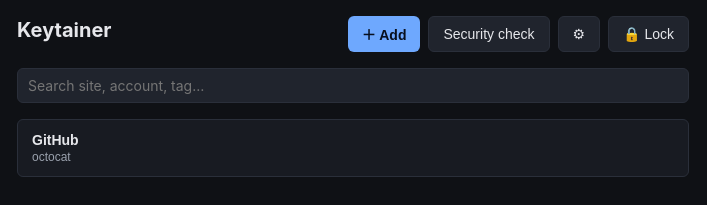
it: List › shows the no-match message when a search returns nothing
Check: the text "GitHub" is shown, box [32,132,79,148]
Type "zz" into the field with placeholder "Search site, account, tag…" at (353, 86), box [17,68,689,103]
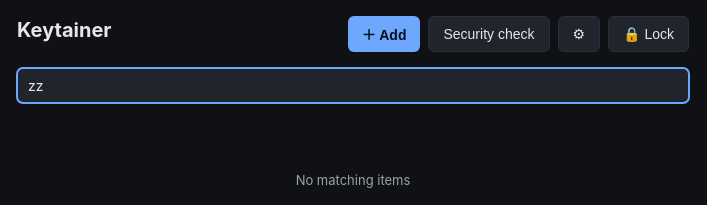
Check: the text "No matching items" is shown, box [296,172,410,188]
